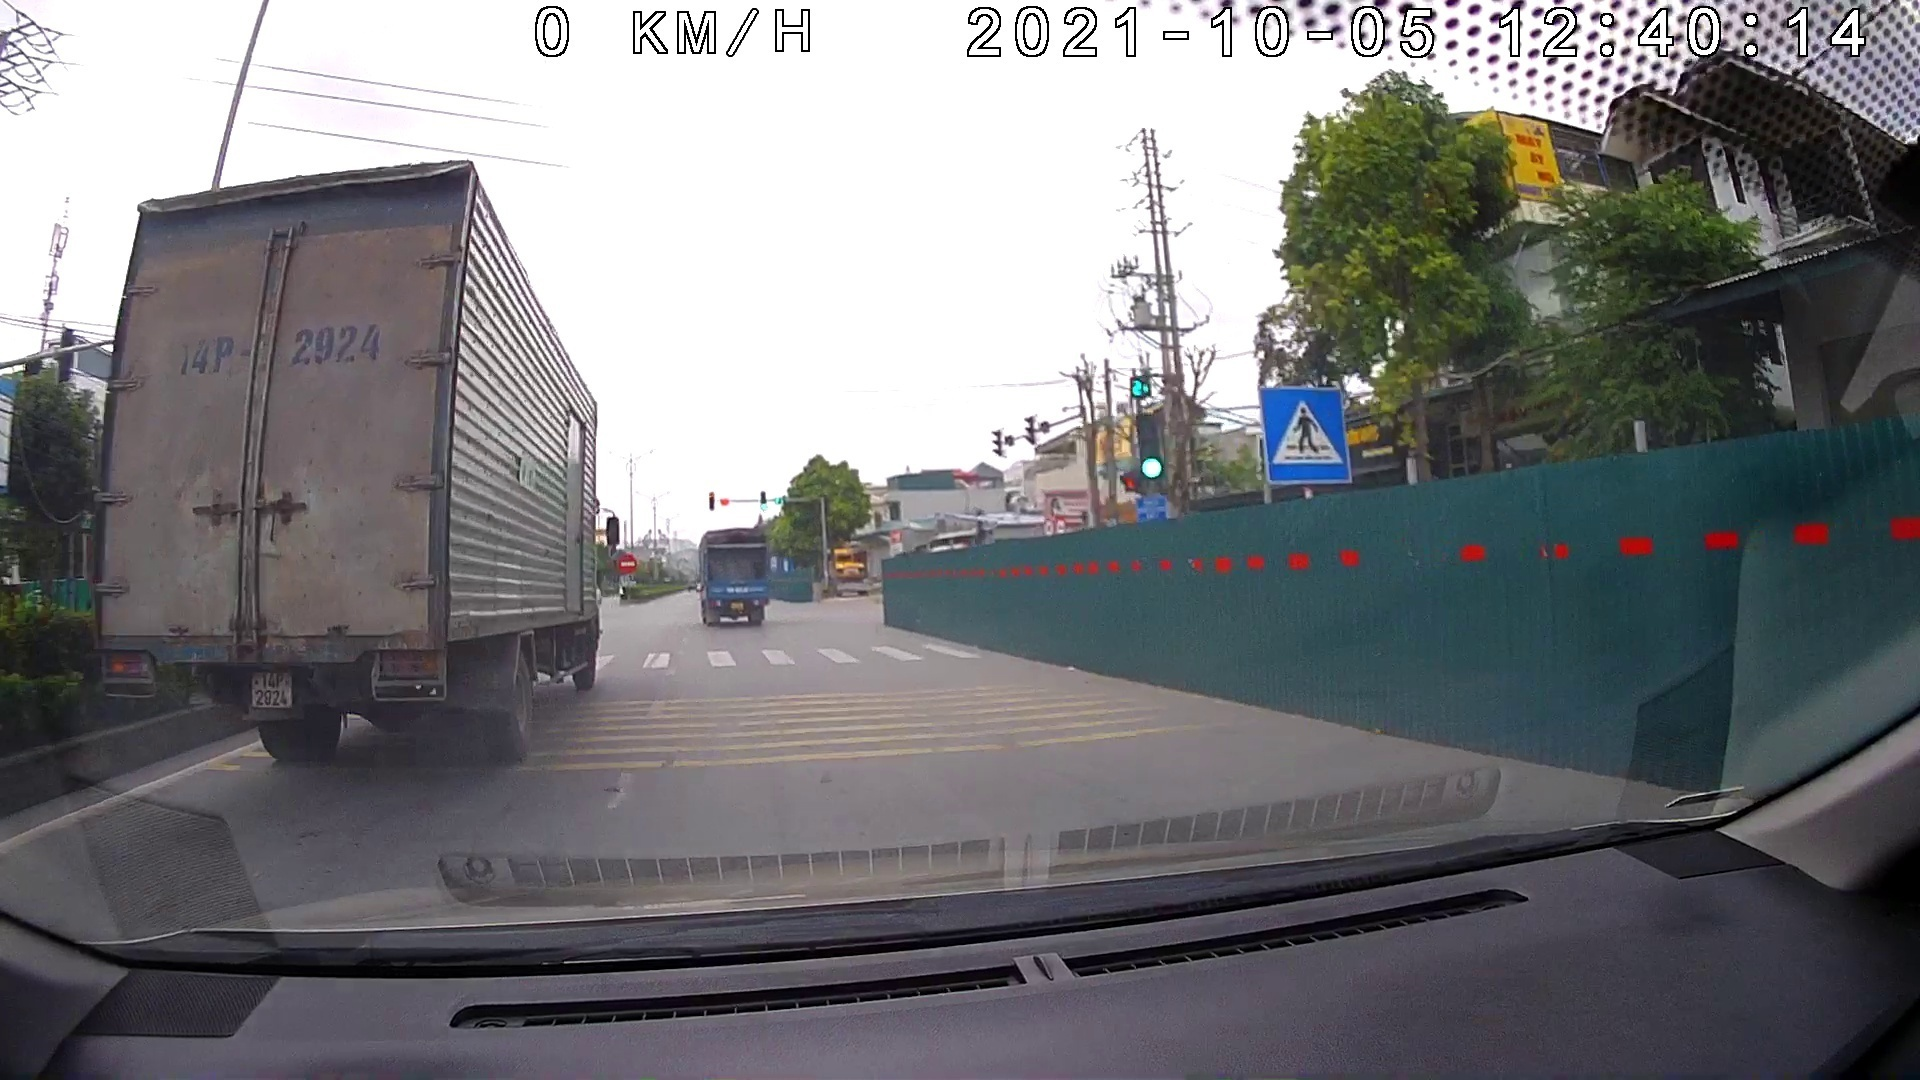Cam di nguoc chieu: (617, 551, 637, 574)
Nguoi di bo: (1257, 382, 1356, 485)
